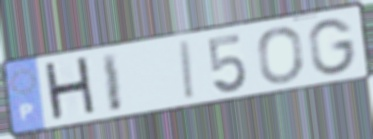5: (205, 30, 249, 95)
G: (306, 17, 359, 77)
H: (41, 54, 100, 125)
I: (99, 49, 126, 115), (179, 38, 198, 103)
O: (256, 25, 306, 85)
